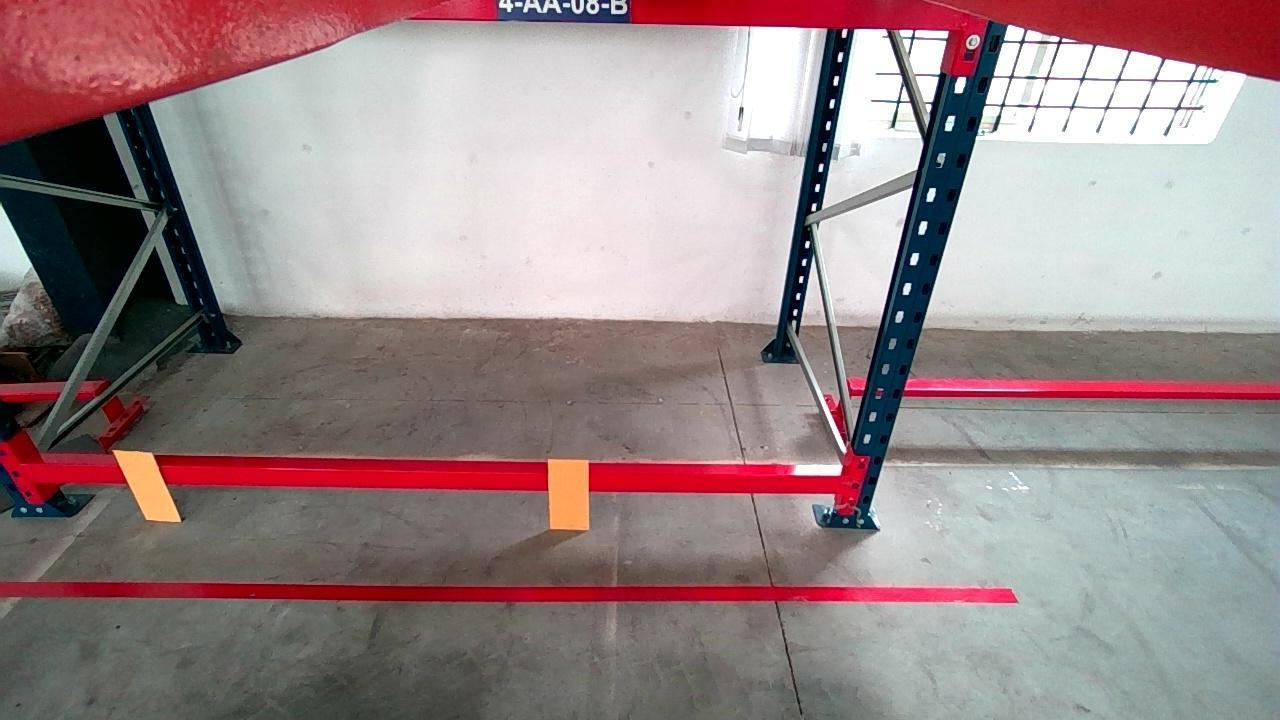h_rack: (15, 463, 846, 494), (410, 0, 971, 29)
orange_strip: (113, 452, 182, 520), (548, 457, 588, 529)
red_line: (0, 580, 1018, 602)
